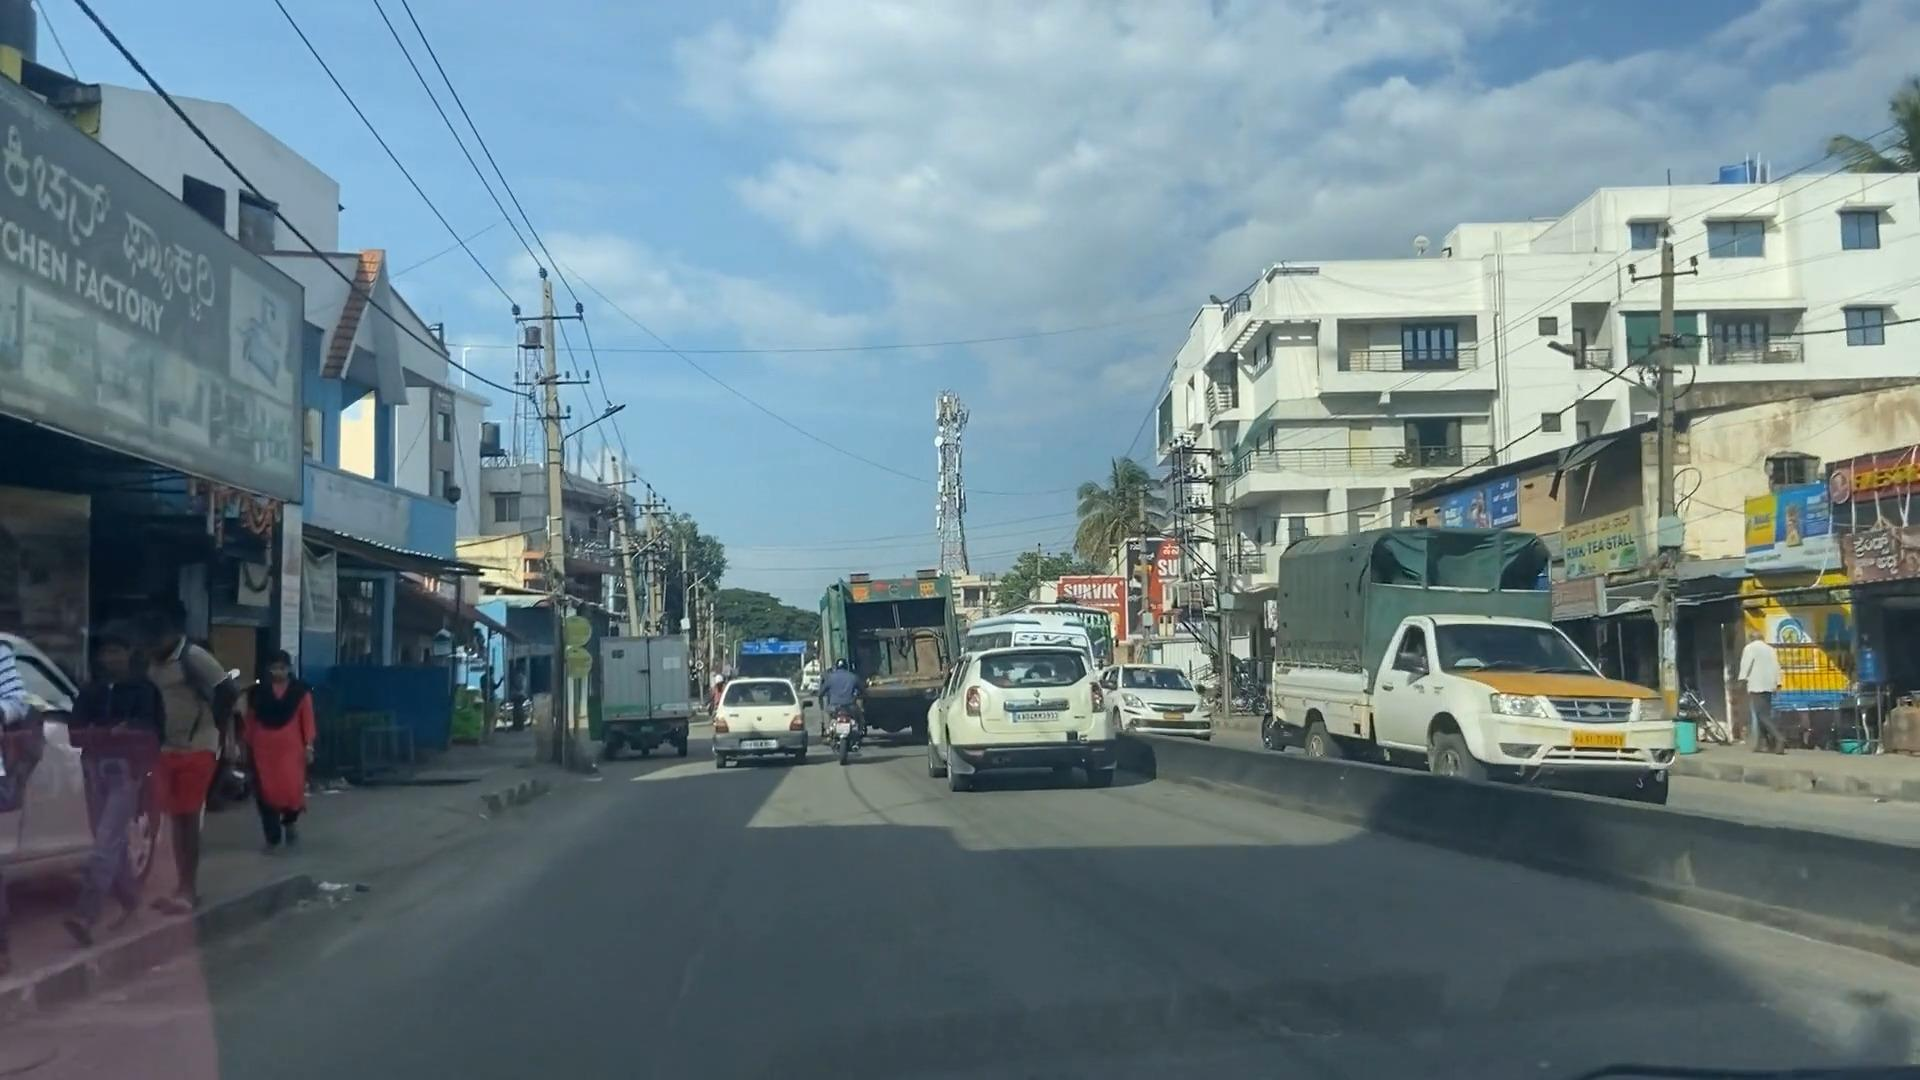LMV: (928, 647, 1125, 789), (709, 676, 794, 752)
